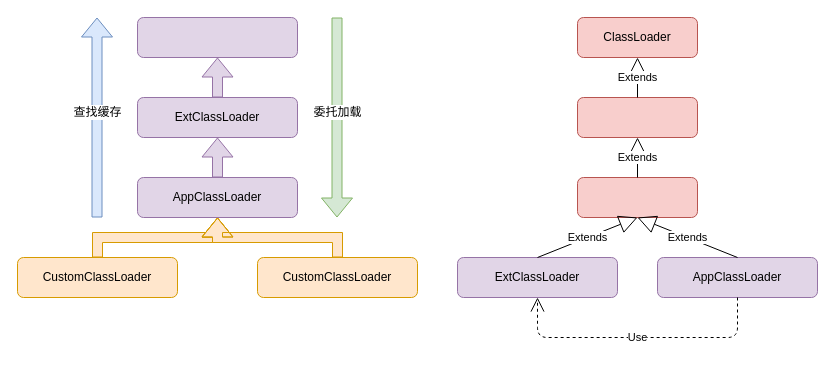
Image size: 835x369. Some labels were removed from this diagram. Here are the shapes that lost their labels. From the top down, the centre of each, then its label:
At point 217,37: "BootstrapClassLoader".
At point 637,117: "SecureClassLoader".
At point 637,197: "URLClassLoader".
